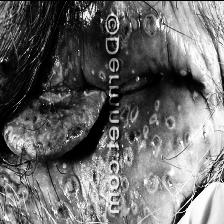Toxin: (7, 112, 84, 172), (122, 129, 142, 171)
